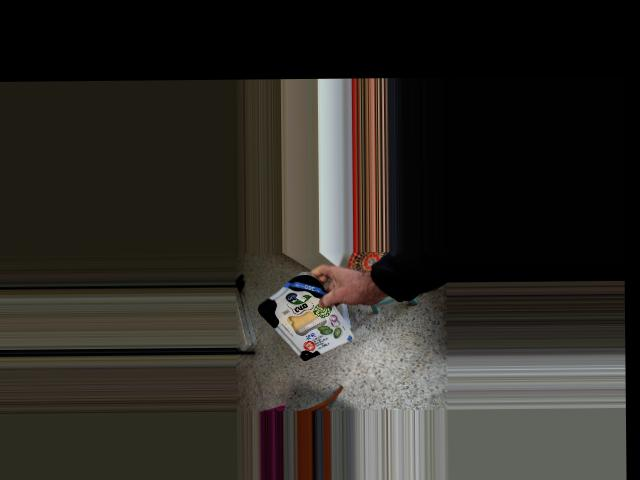cheese: (259, 269, 347, 369)
